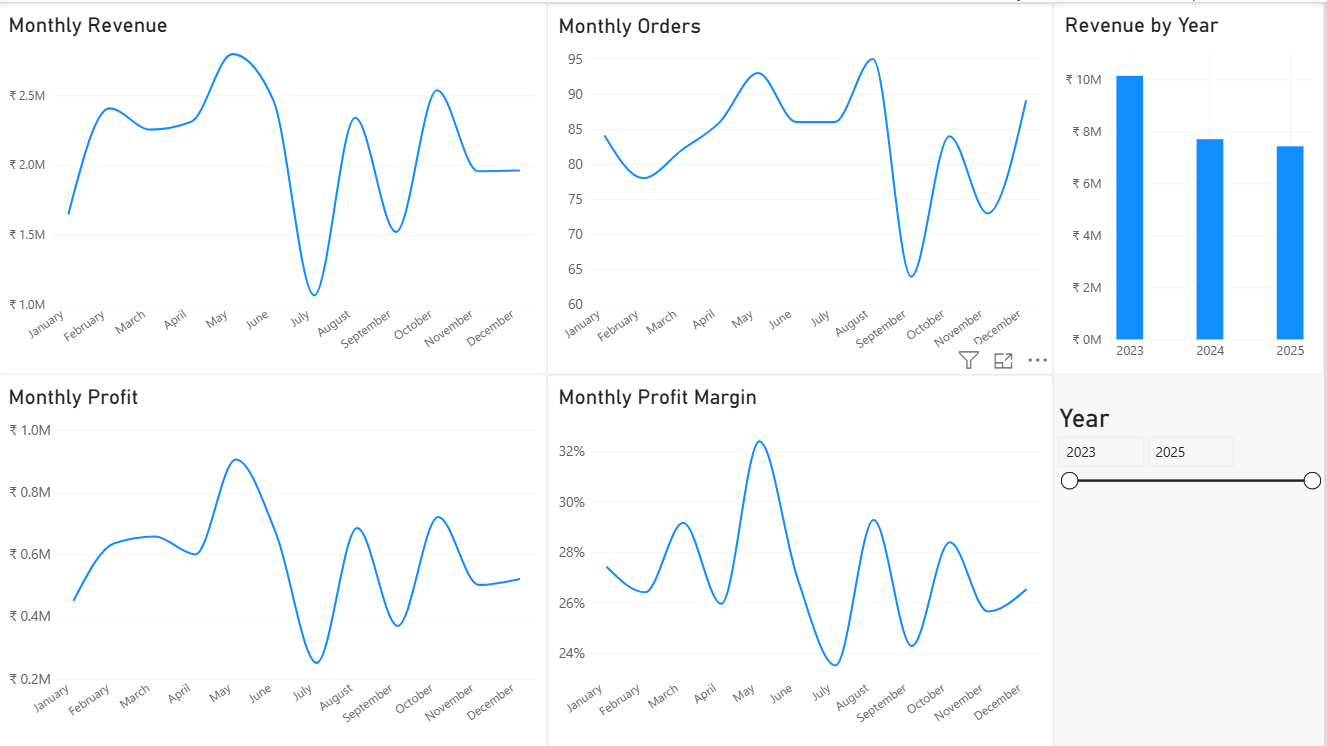

Layout of this report page (visuals, bound fields, positions):
{"tool":"powerbi","page":{"name":"Time Analysis","canvas":[1920,1080],"ordinal":4},"visuals":[{"type":"lineChart","title":"Monthly Revenue","fields":{"Category":["DateTable.Month"],"Y":["transactions_clean.Total Revenue"]},"box":[0,0,796.6,539.3],"z":0},{"type":"lineChart","title":"Monthly Profit","fields":{"Category":["DateTable.Month"],"Y":["transactions_clean.Total Profit"]},"box":[0,539.3,796.6,541.3],"z":1},{"type":"lineChart","title":"Monthly Orders","fields":{"Category":["DateTable.Month"],"Y":["transactions_clean.Total Orders"]},"box":[796.6,2.1,732.8,537.2],"z":2},{"type":"lineChart","title":"Monthly Profit Margin","fields":{"Category":["DateTable.Month"],"Y":["transactions_clean.Profit Margin"]},"box":[796.6,539.3,732.8,541.3],"z":3},{"type":"clusteredColumnChart","title":"Revenue by Year","fields":{"Category":["DateTable.Year"],"Y":["transactions_clean.Total Revenue"]},"box":[1529.3,0,391.1,539.3],"z":4},{"type":"slicer","fields":{"Values":["DateTable.Year"]},"box":[1529.3,580.4,391.1,230.5],"z":5}]}

Visuals, with their boxes in screenshot pixels (x1, y1, x2, y2), scaled from the page's 1920x1080 canvas onto the 1327x746 screenshot:
"Monthly Revenue" lineChart: bbox=(0, 0, 551, 373)
"Monthly Profit" lineChart: bbox=(0, 373, 551, 745)
"Monthly Orders" lineChart: bbox=(551, 1, 1057, 373)
"Monthly Profit Margin" lineChart: bbox=(551, 373, 1057, 745)
"Revenue by Year" clusteredColumnChart: bbox=(1057, 0, 1326, 373)
slicer - DateTable.Year: bbox=(1057, 401, 1326, 560)
